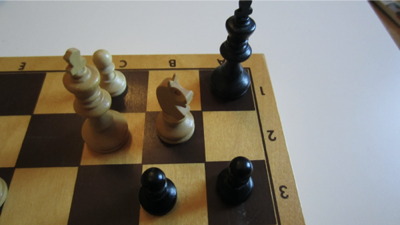black-king: (210, 1, 258, 100)
black-pawn: (216, 156, 255, 206), (139, 168, 178, 216)
white-king: (62, 48, 131, 154)
white-knight: (153, 73, 196, 146)
white-pawn: (92, 49, 128, 98)
